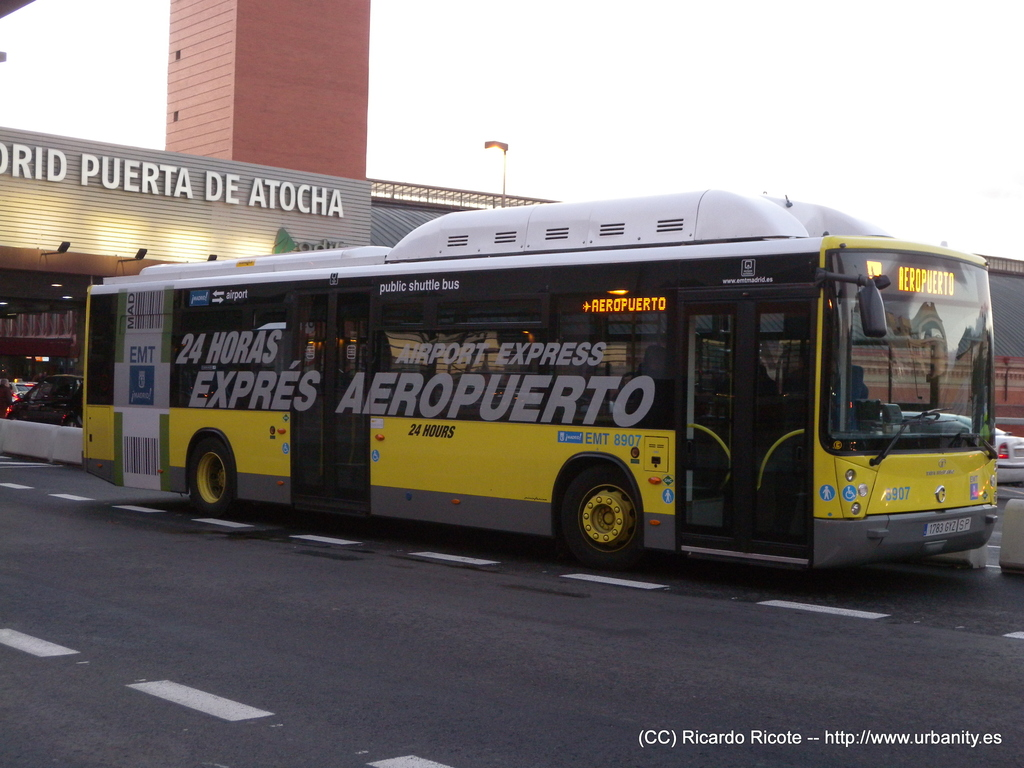Bus: (81, 182, 1003, 574)
